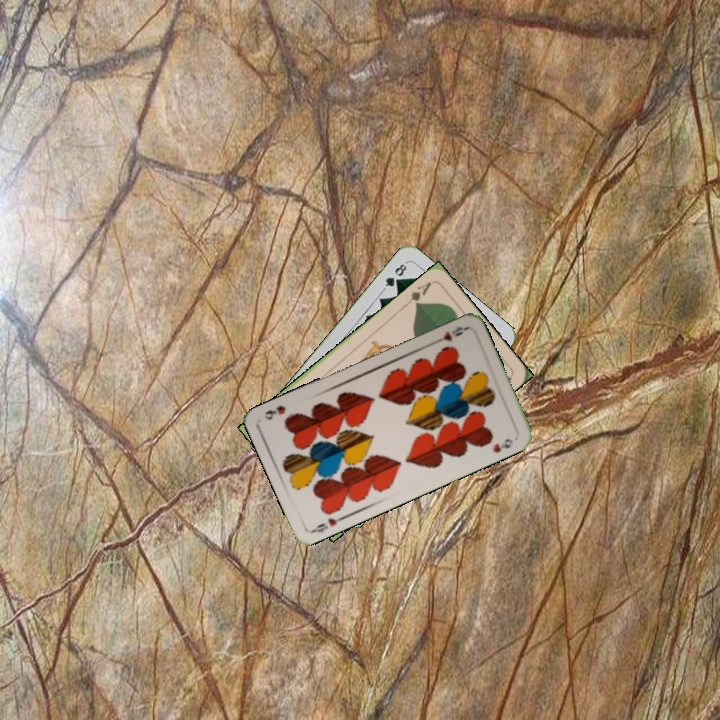G8: (380, 258, 410, 293)
GA: (401, 278, 434, 309)
H9: (430, 322, 469, 347), (308, 512, 347, 535)
